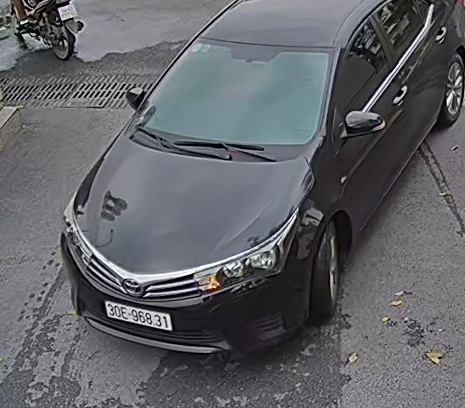vehicle plate: (99, 298, 176, 334)
